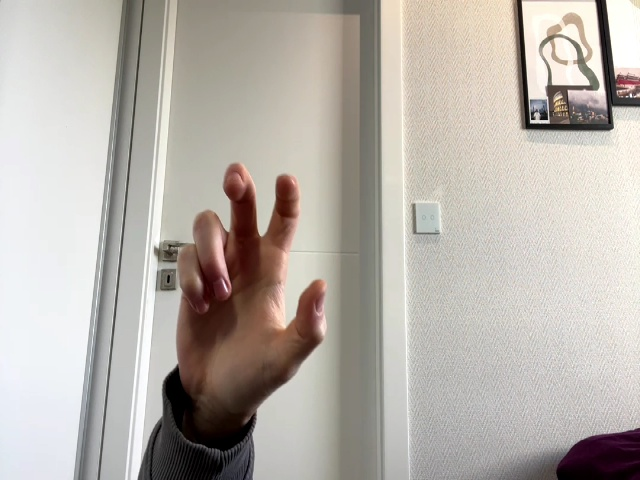CH: (176, 164, 328, 403)
